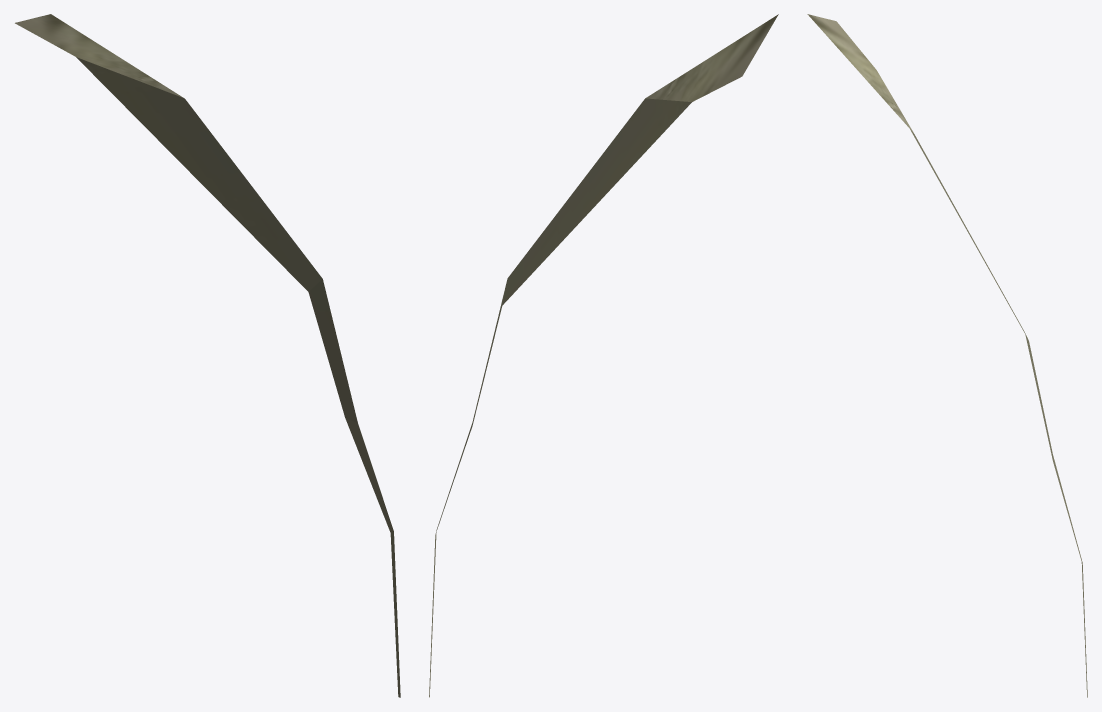
3 views of the same model, side by side, from view 1: azimuth 30°, elevation 25°; view 2: azimuth 150°, elevation 25°; view 3: azimuth 330°, elevation 25° (orthographic). The views are drawn at different scales.
Size of the model in its own units: 2.17 by 4.56 by 0.3934.
Materials: 1 (1 with a texture image).
